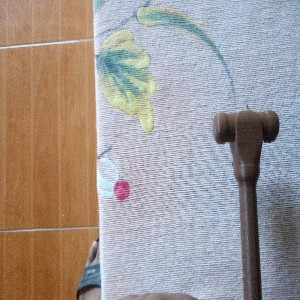palu: (213, 108, 280, 298)
